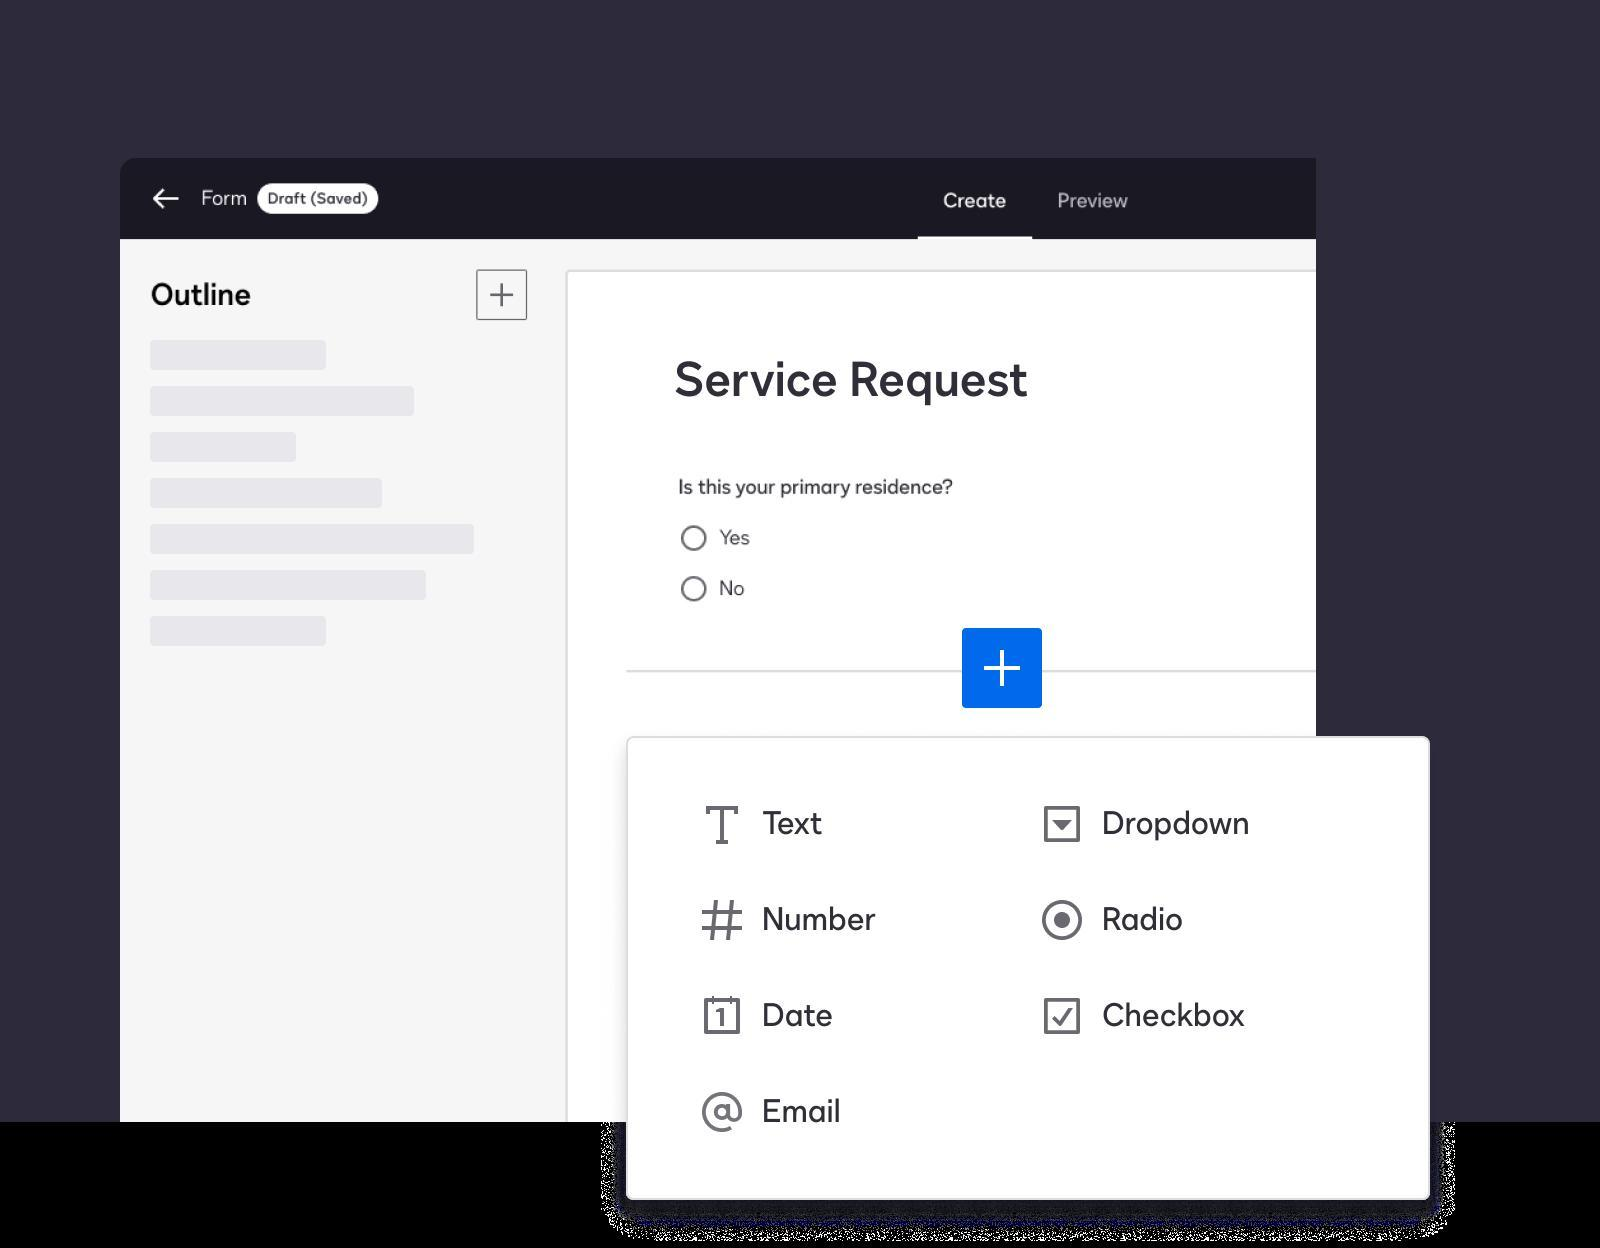button: (258, 183, 381, 216)
checkbox: (1042, 996, 1082, 1039)
dropdown: (1042, 806, 1084, 844)
icon: (961, 629, 1045, 708), (477, 269, 529, 323), (703, 893, 745, 949), (701, 1090, 747, 1139), (704, 990, 745, 1042), (701, 804, 748, 849), (143, 183, 187, 216)
label: (677, 360, 1034, 406), (1099, 801, 1249, 845), (675, 478, 955, 497), (1101, 1003, 1244, 1032), (760, 904, 877, 940), (757, 1096, 847, 1129), (760, 803, 823, 840), (755, 1003, 838, 1030), (1103, 906, 1182, 934), (1057, 191, 1129, 210), (945, 191, 1010, 210), (722, 529, 752, 547), (719, 577, 745, 595)
radio: (1038, 903, 1088, 940), (679, 575, 708, 601), (681, 526, 708, 551)
